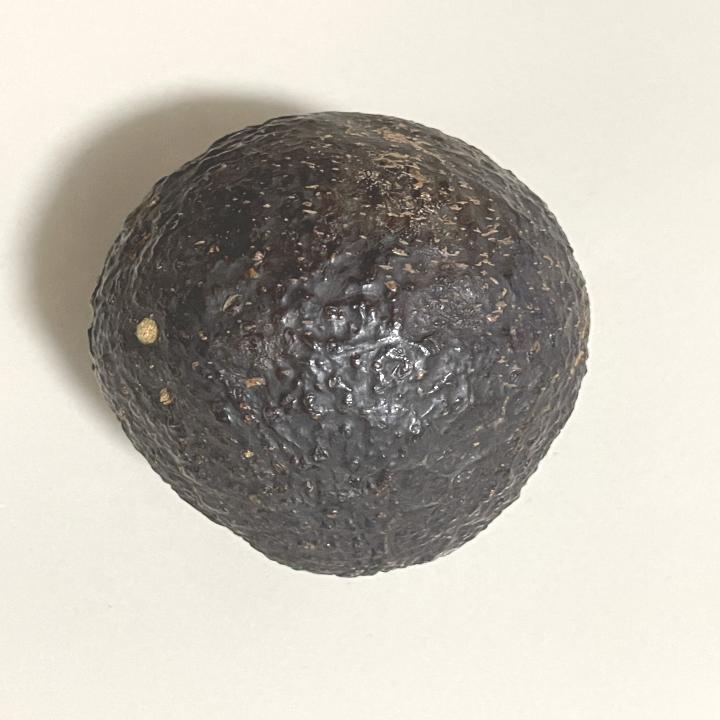Level3: (76, 102, 606, 592)
